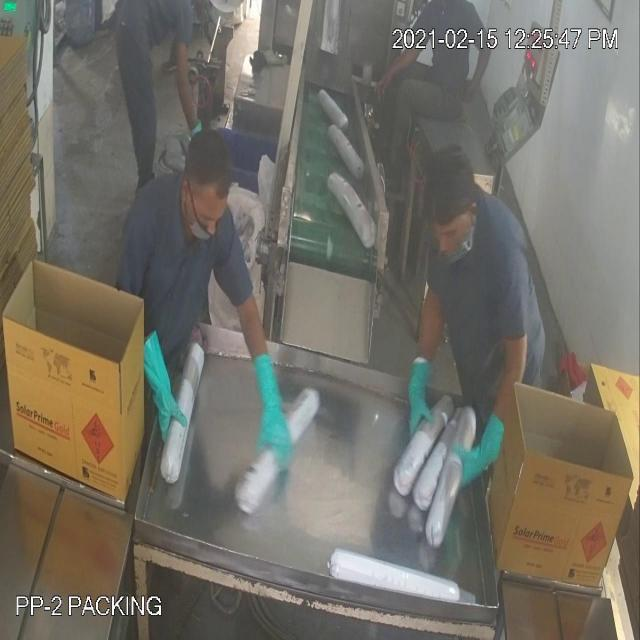Gloves: (28, 67, 483, 446)
